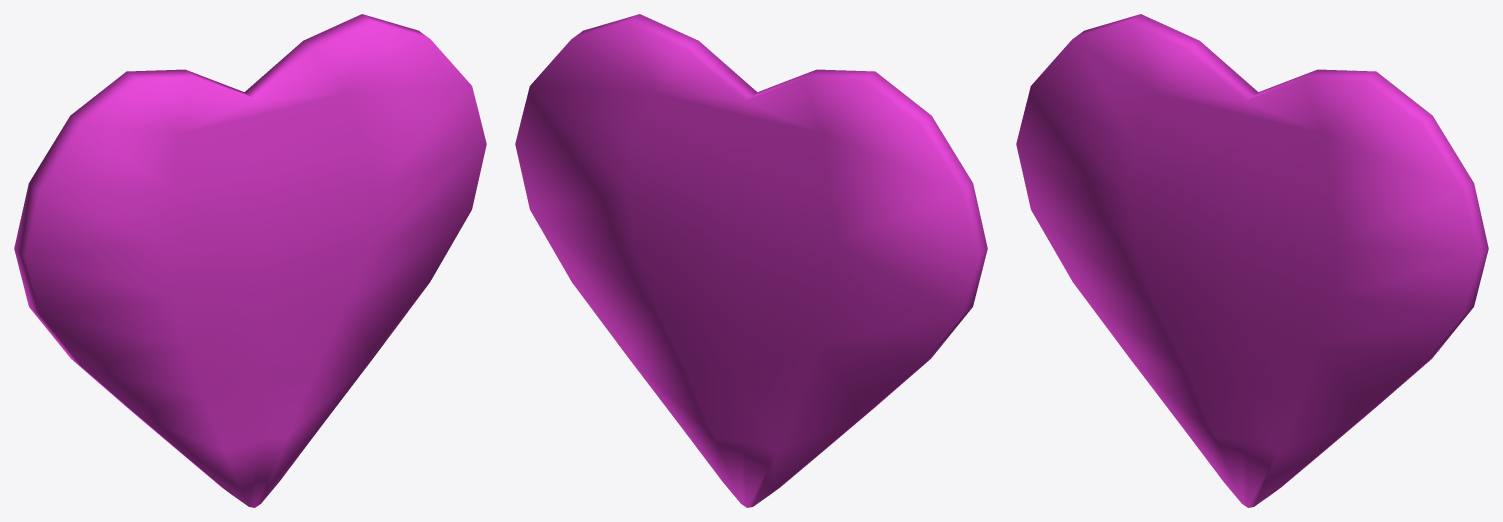
Rendered from Heart_001.fbx.
3 renders of one model, left to right at view 1: azimuth 30°, elevation 25°; view 2: azimuth 150°, elevation 25°; view 3: azimuth 330°, elevation 25°, orthographic.
Parts seen in each view (by area): view 1: Plane.001; view 2: Plane.001; view 3: Plane.001.
Boxes of the visible parts, left/top/right/bottom form: Plane.001: left=14, top=14, right=486, bottom=507; Plane.001: left=515, top=14, right=987, bottom=507; Plane.001: left=1016, top=14, right=1488, bottom=507.
Size of the model in its own units: 217 by 205 by 31.41.
